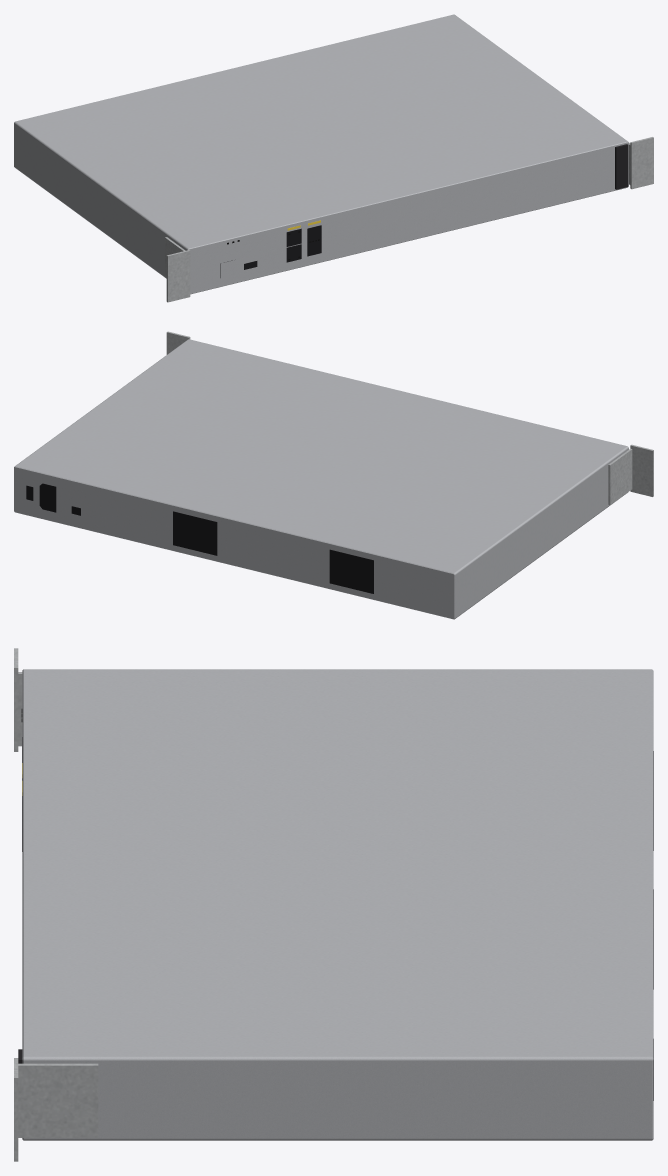
The model's file is C8200-1N-4T.far.glb.
3 views of the same model, one above another, from view 1: azimuth 30°, elevation 25°; view 2: azimuth 150°, elevation 25°; view 3: azimuth 270°, elevation 25° (orthographic). The views are drawn at different scales.
Visible parts, largest first — view 1: Shell_far; view 2: Shell_far; view 3: Shell_far.
Boxes of the visible parts, x1,y1,x2,y2 form: Shell_far: (14, 14, 653, 302); Shell_far: (14, 331, 653, 619); Shell_far: (14, 648, 653, 1161).
Bounding box in the file's own units: 0.4826 × 0.0439 × 0.3039.
Materials: 4 (3 with a texture image).
